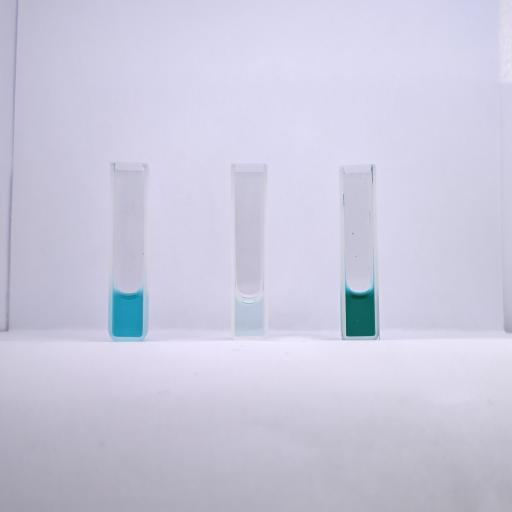cuvette: (337, 162, 383, 343), (107, 159, 149, 343), (229, 161, 270, 343)
liquid: (345, 286, 375, 337), (113, 287, 143, 337), (235, 292, 264, 337)
